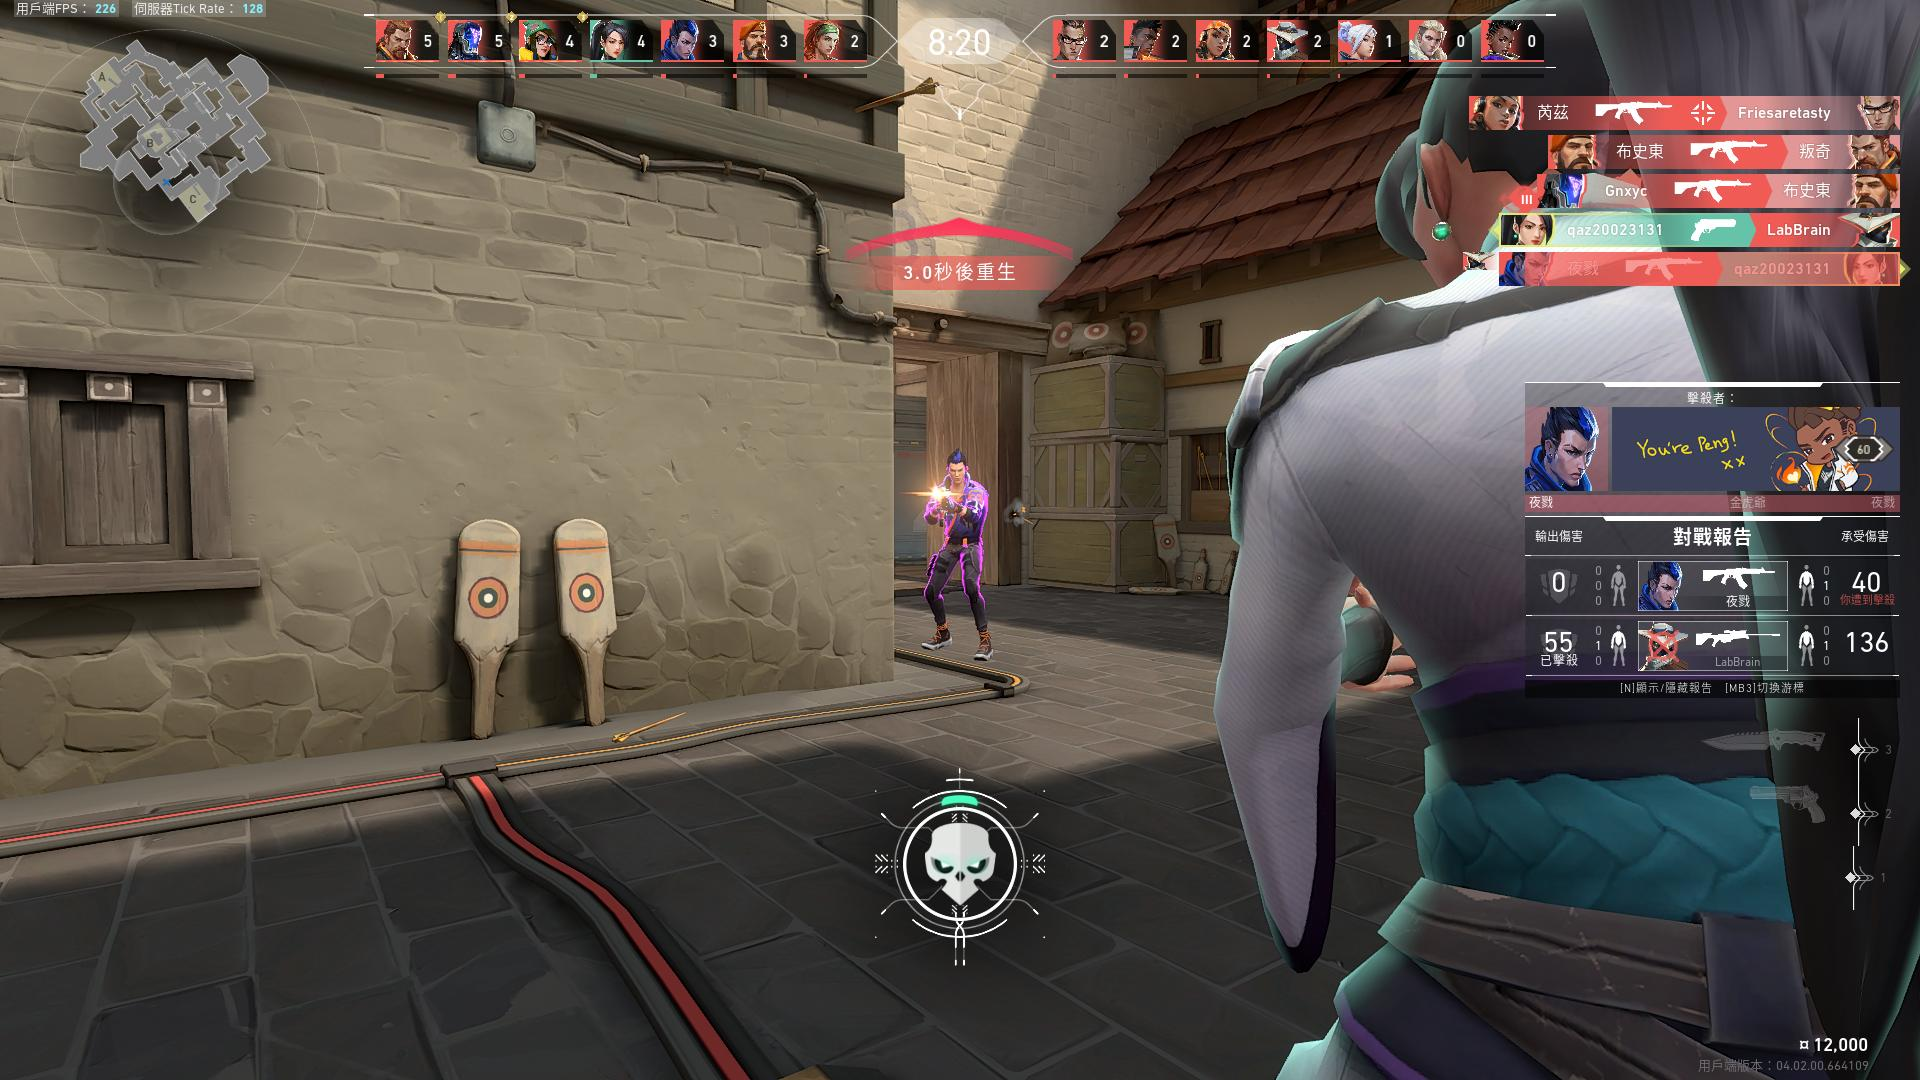enemyBody: (945, 483, 976, 541)
enemyHead: (949, 462, 965, 481)
